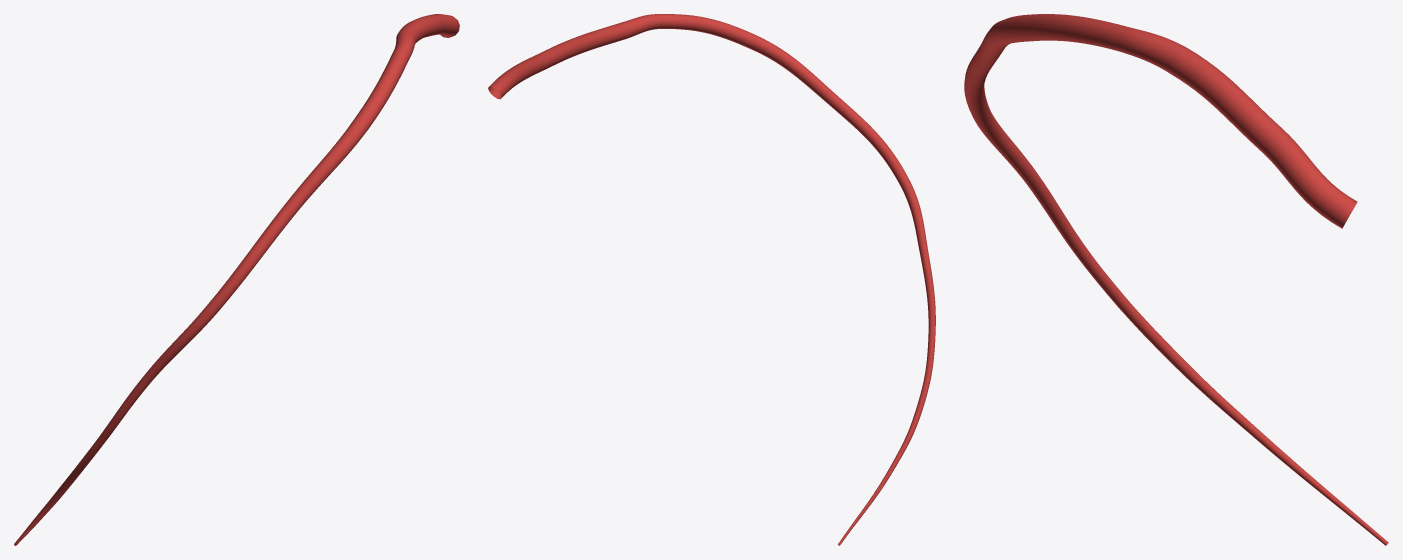
3 views of the same model, side by side, from view 1: azimuth 30°, elevation 25°; view 2: azimuth 150°, elevation 25°; view 3: azimuth 270°, elevation 25° (orthographic). The views are drawn at different scales.
Parts seen in each view (by area): view 1: 右侧髂腰动脉髂支; view 2: 右侧髂腰动脉髂支; view 3: 右侧髂腰动脉髂支.
Boxes of the visible parts, x1,y1,x2,y2 form: 右侧髂腰动脉髂支: (14, 14, 459, 545); 右侧髂腰动脉髂支: (488, 14, 935, 545); 右侧髂腰动脉髂支: (964, 14, 1388, 545).
Size of the model in its own units: 0.1304 by 0.1348 by 0.0702.
